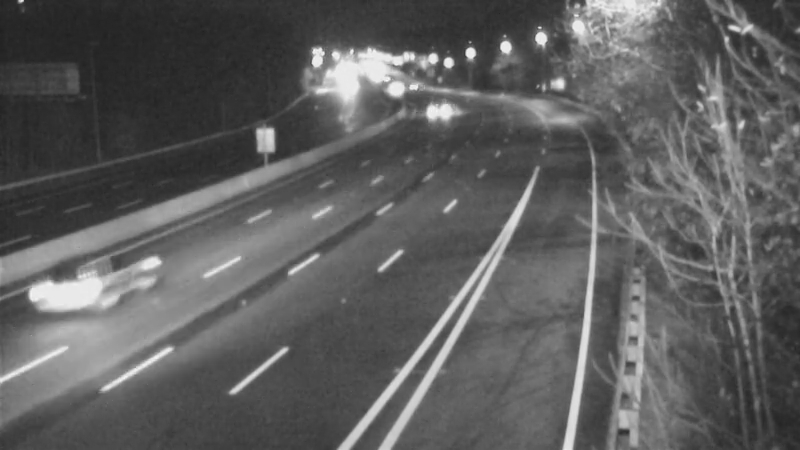vehicle: (30, 251, 110, 331), (372, 66, 422, 116), (413, 85, 463, 135)
